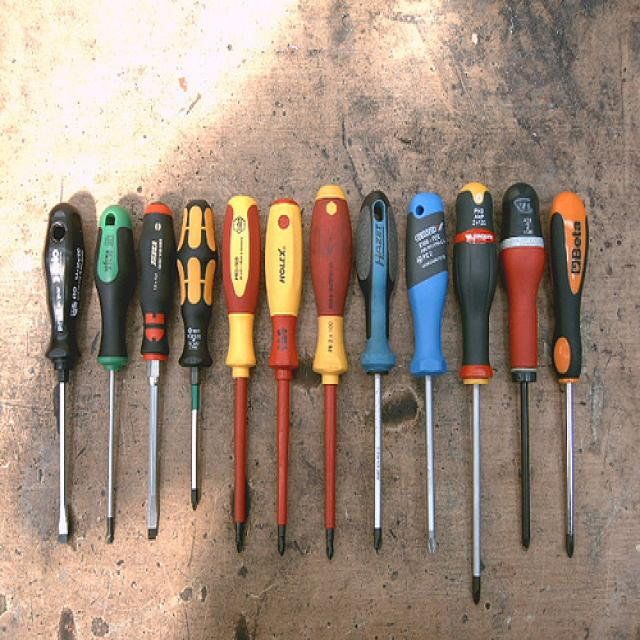screw driver: (543, 181, 610, 614), (29, 187, 94, 563), (448, 174, 500, 606), (400, 178, 456, 571), (210, 185, 268, 562), (348, 179, 402, 562), (501, 180, 553, 558), (86, 195, 138, 550), (303, 182, 350, 568), (166, 182, 217, 523), (130, 196, 178, 544), (261, 190, 304, 568)
